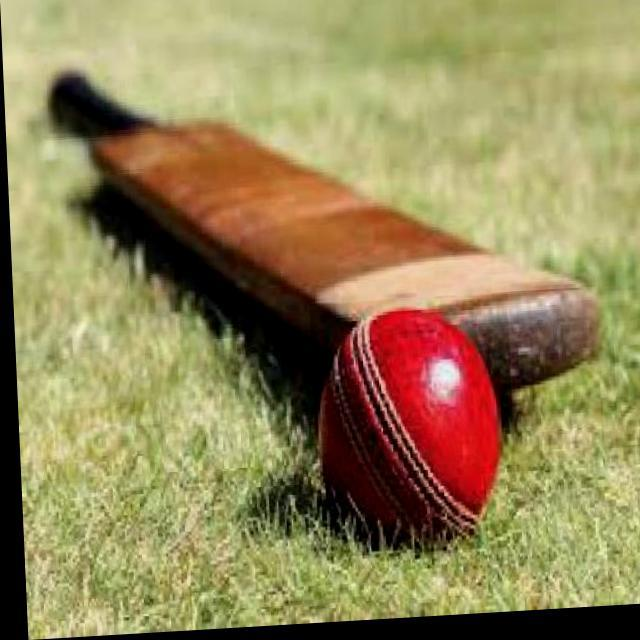-: (306, 299, 513, 562)
